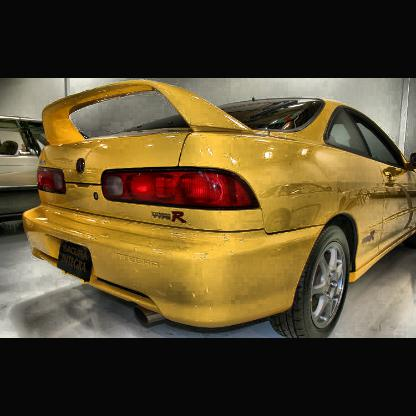Acura Integra Type R 2001: (24, 81, 416, 338)
